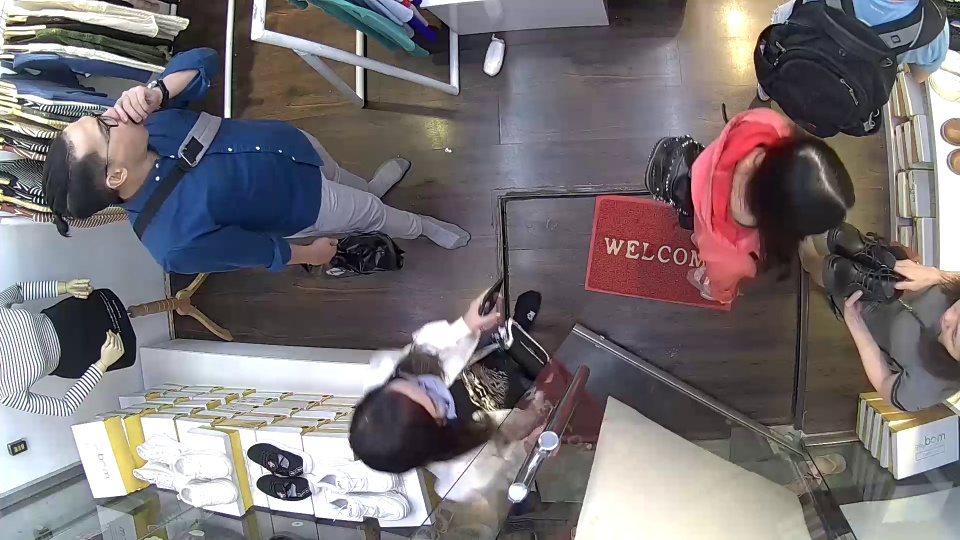topviewhead: (40, 115, 150, 230), (754, 131, 860, 242), (344, 376, 447, 476)
